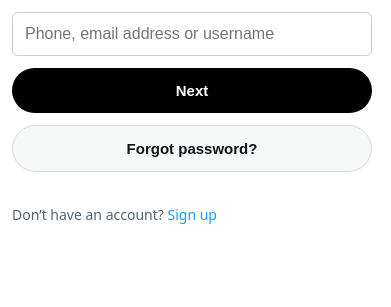
Test: LoginForm › shows password input after clicking Next
The image size is (391, 307).
Type "hamoudi@test.com" into the field with placeholder "Phone, email address or username" at (192, 34), box [12, 12, 372, 56]
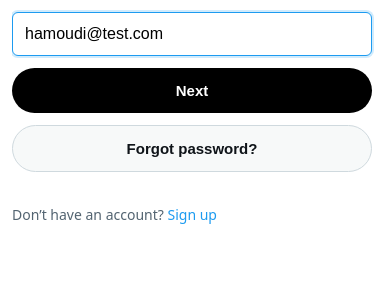
Click the button "Next" at (192, 90), box [12, 68, 372, 113]
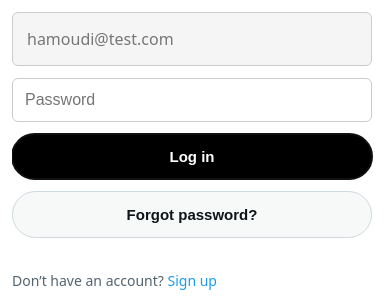
Expected: the password field with placeholder "Password" is shown, [12, 78, 372, 122]
Expected: the button "Log in" is shown, [12, 134, 372, 179]
